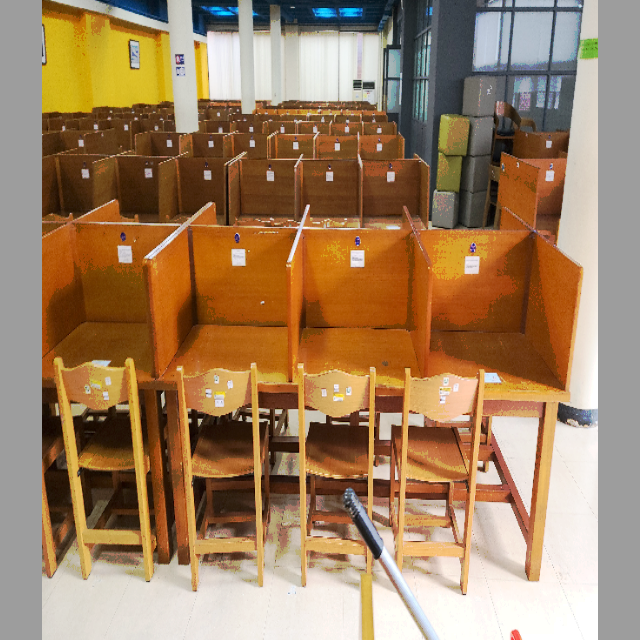empty: (433, 218, 579, 463), (156, 229, 289, 467), (297, 221, 425, 468)
